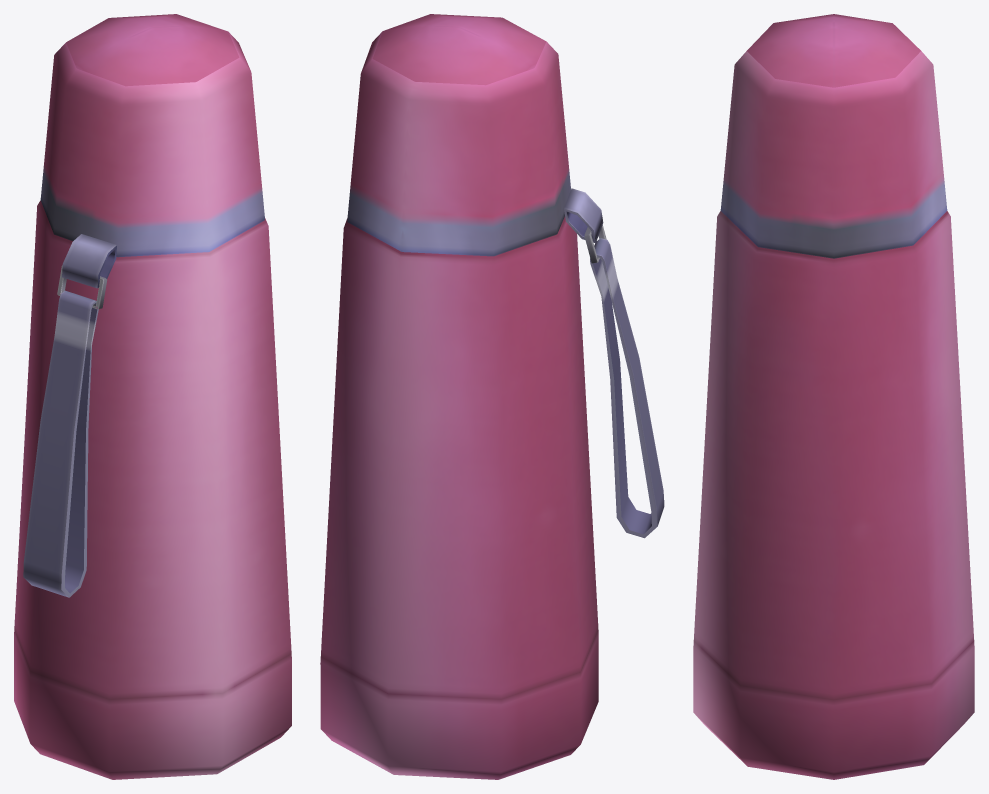
File: XiuXiShi_01_baowenbei_01.FBX
3 views of the same model, side by side, from view 1: azimuth 30°, elevation 25°; view 2: azimuth 150°, elevation 25°; view 3: azimuth 270°, elevation 25° (orthographic).
Visible parts, largest first — view 1: XiuXiShi_baowenbei; view 2: XiuXiShi_baowenbei; view 3: XiuXiShi_baowenbei.
Part boxes in pixels (<box>): XiuXiShi_baowenbei: <box>14,14,291,779</box>; XiuXiShi_baowenbei: <box>320,14,664,779</box>; XiuXiShi_baowenbei: <box>693,14,974,779</box>.
Size of the model in its own units: 69.03 by 161 by 58.95.
